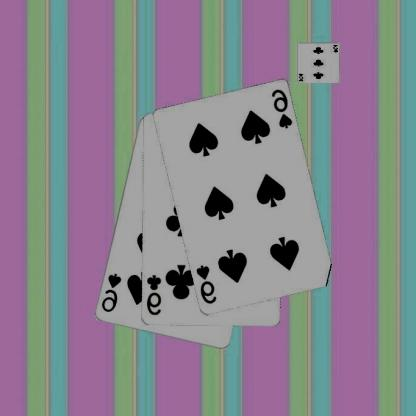6C: (145, 272, 164, 316)
6S: (270, 87, 295, 130), (195, 262, 219, 305)
9S: (100, 271, 124, 313)
